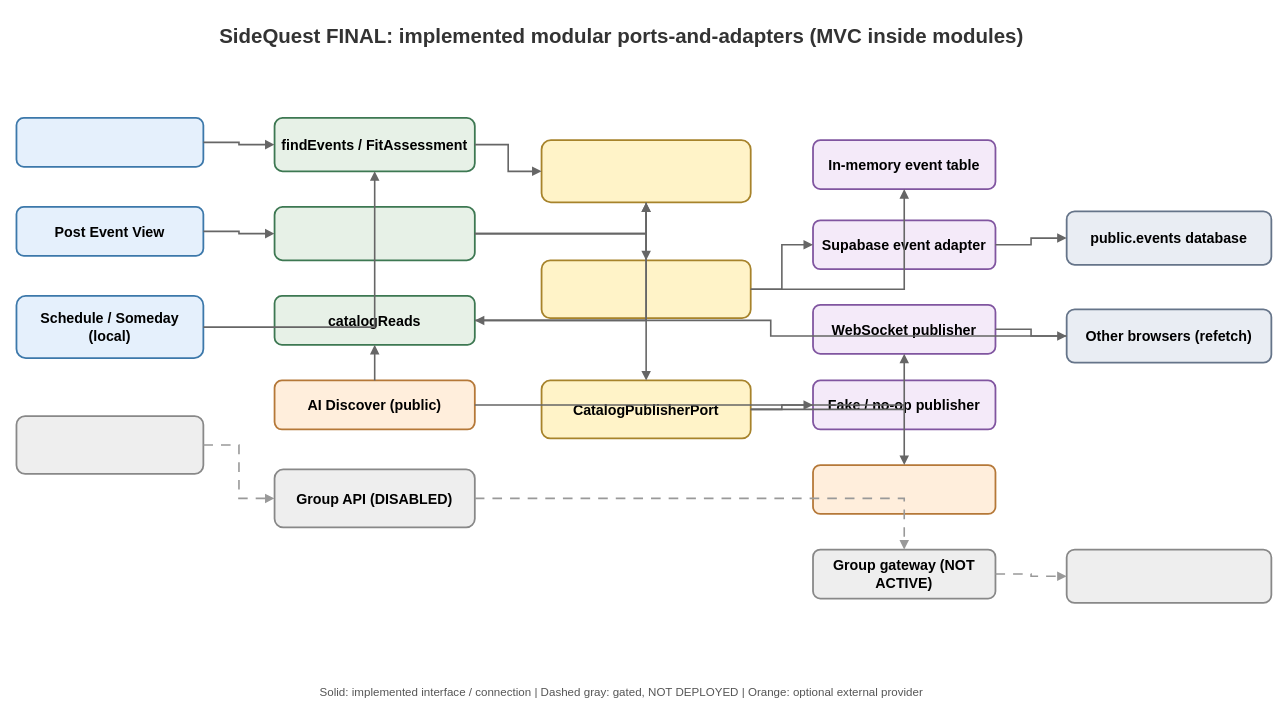
Some shapes in this 1287 by 724 pixel diagram are drawn without their labels. The shapes that lost their labels are listed below. From the top down, each one's box as (x1, y1, x2, y2) in pixels, then its label:
(15, 117, 204, 167): Discover View
(540, 139, 751, 203): EventCatalogPort + validation
(273, 206, 475, 261): createCatalogApi
(540, 259, 751, 319): EventTable storage port
(15, 415, 204, 474): Group Plans (DISABLED)
(812, 464, 996, 514): External AI API (server key)
(1065, 548, 1272, 603): Group SQL (NOT DEPLOYED)
